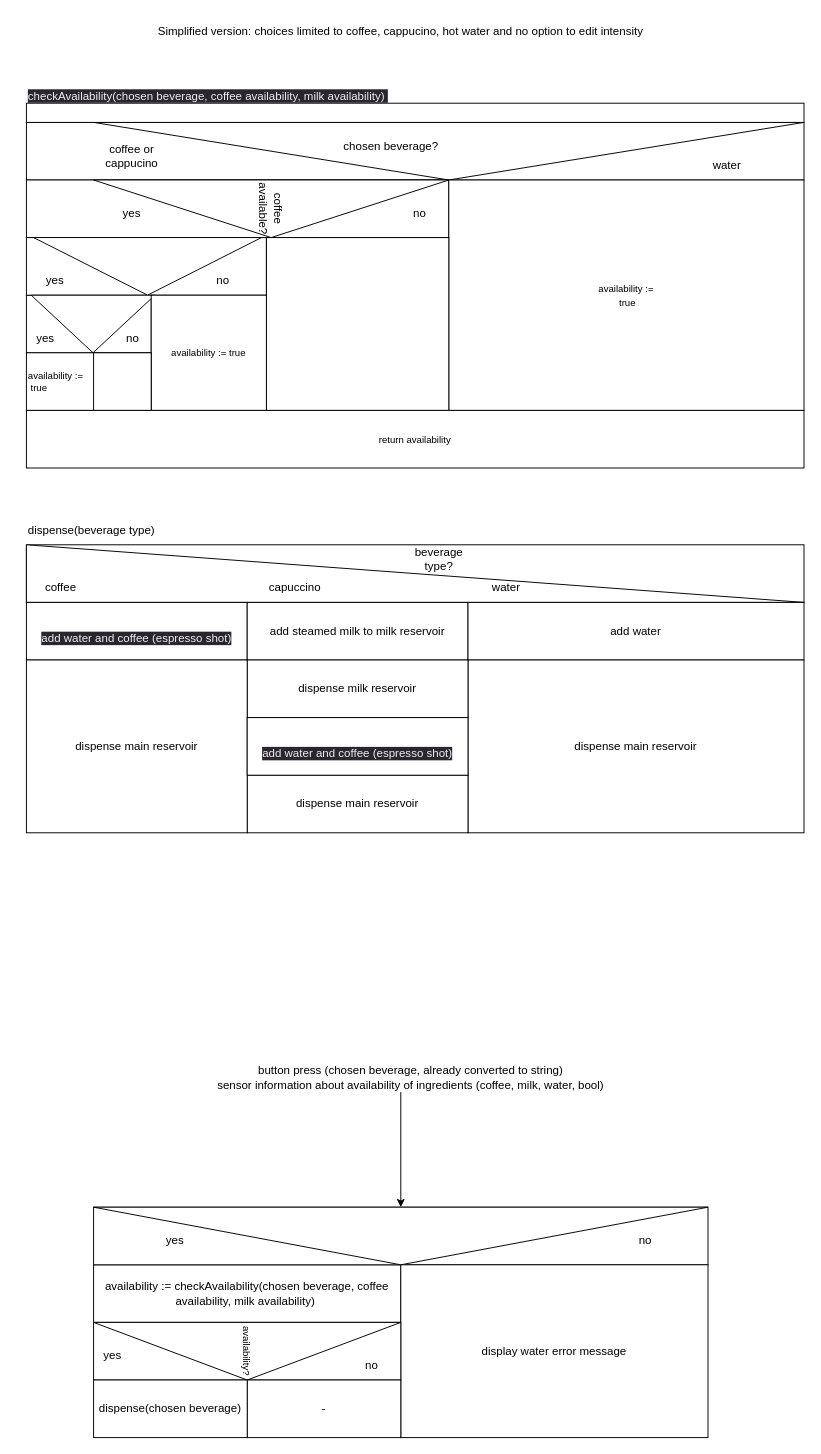
The diagram is 821 pixels wide and 1454 high, and some of its shapes have lost their labels. Each missing label, with the centre of its shape:
"availability := false" belongs at (x=414, y=112).
"cappucino?" belongs at (x=147, y=266).
"display coffee error message" belongs at (x=357, y=323).
"milk available?" belongs at (x=92, y=323).
"milk error" belongs at (x=122, y=381).
"water available?" belongs at (x=400, y=1235).
